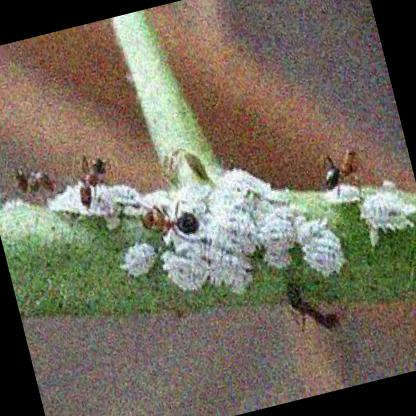mealy bug: (207, 206, 262, 261), (363, 192, 415, 228), (165, 259, 209, 291), (260, 217, 295, 253), (305, 239, 343, 271), (123, 242, 155, 278)
